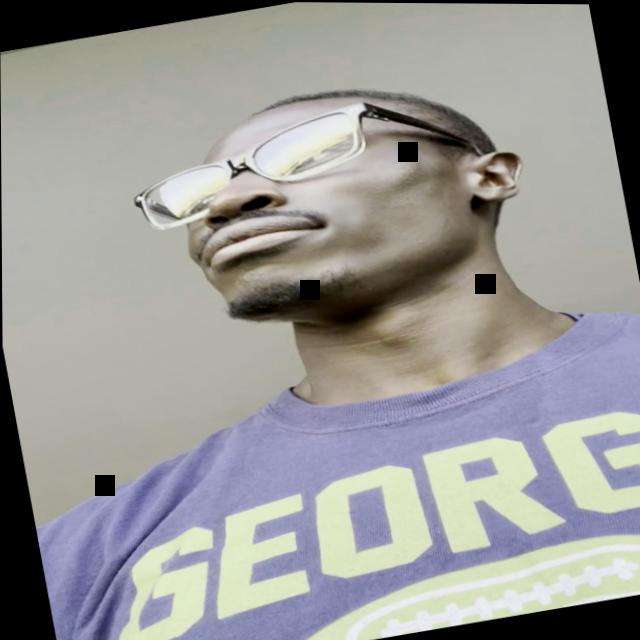NO-Mask: (147, 67, 516, 360)
